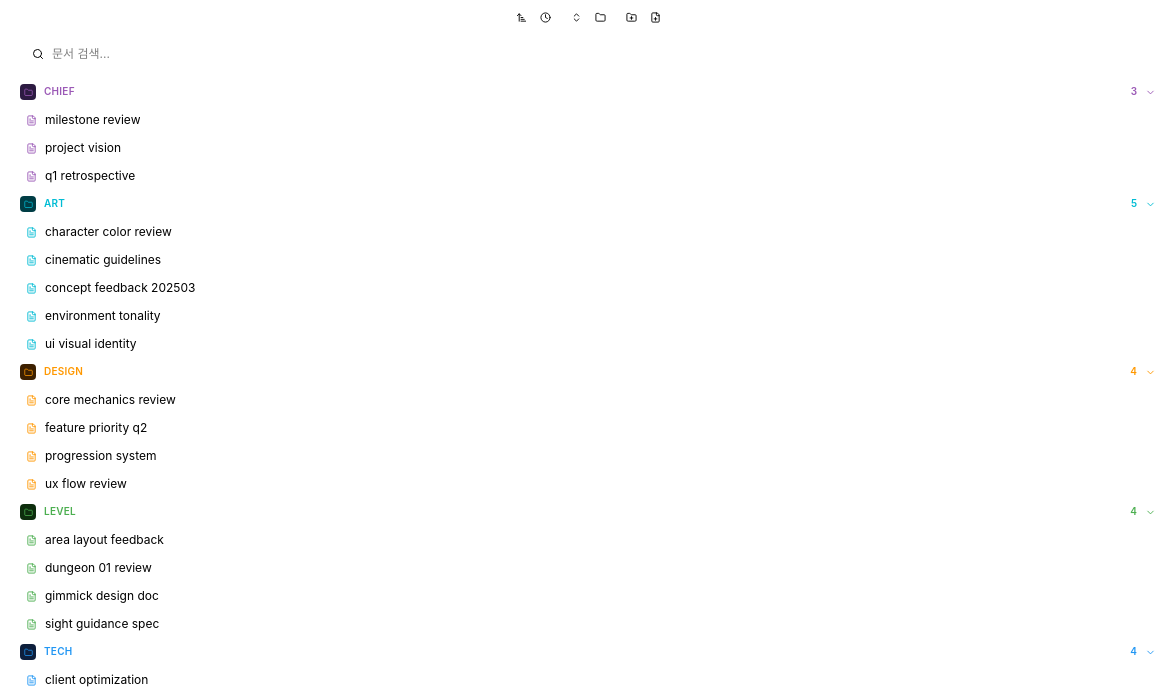
FileTree — search filtering › shows "검색 결과 없음" when no match
Type "xyznonexistent" into the field named "search". click: (598, 54)
box: left=52, top=46, right=1144, bottom=62
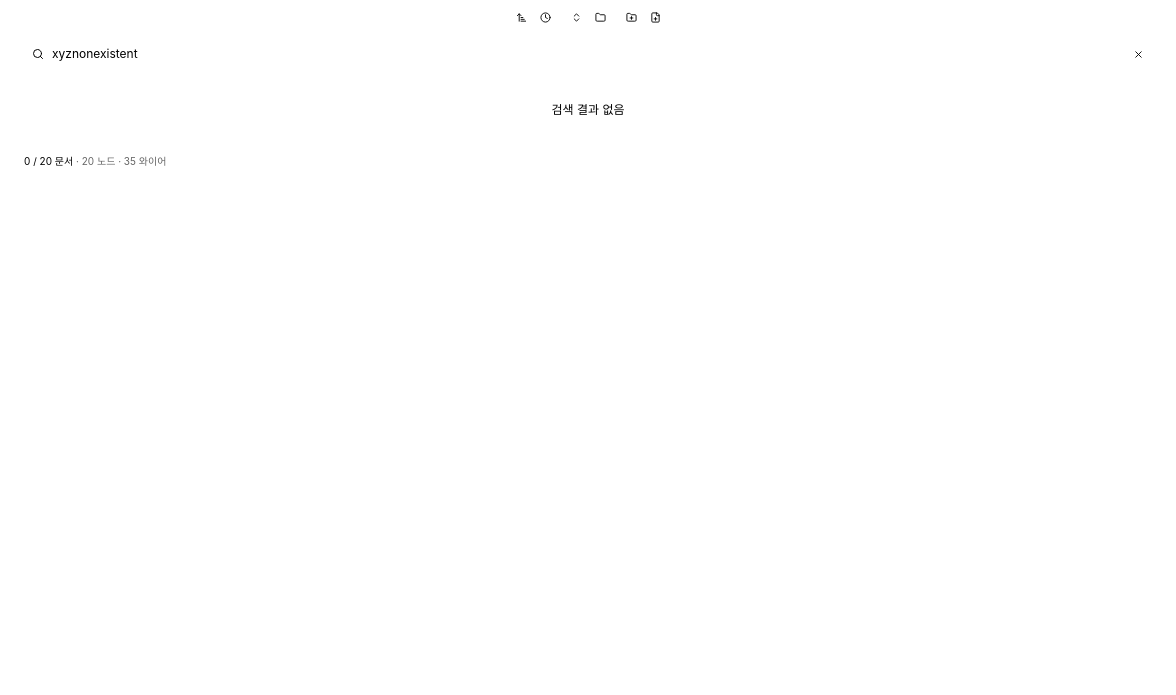
Result: the text "검색 결과 없음" is shown at left=552, top=102, right=624, bottom=117
